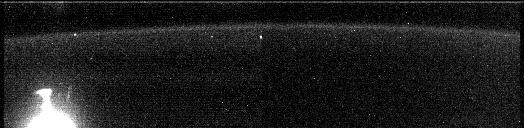positive: (32, 86, 53, 111)
